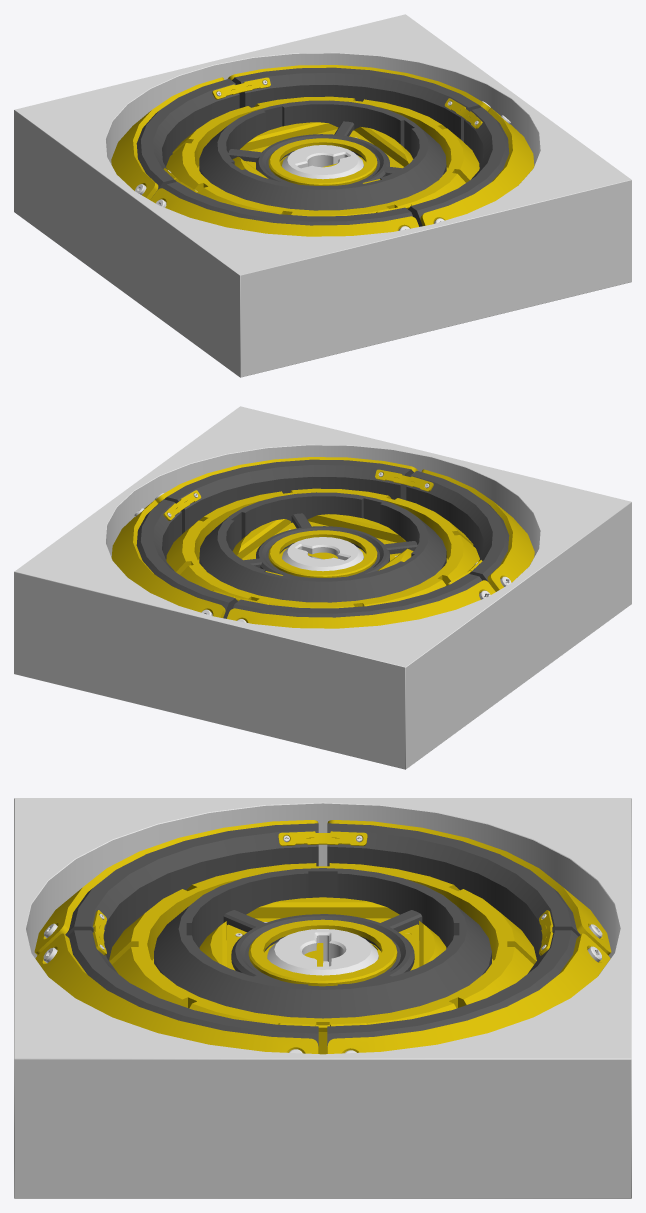
File: Scifi2_Ceiling2x.fbx
3 renders of one model, top to bottom at view 1: azimuth 30°, elevation 25°; view 2: azimuth 150°, elevation 25°; view 3: azimuth 270°, elevation 25°, orthographic. The views are drawn at different scales.
Parts seen in each view (by area): view 1: Ceiling2x, С_01_С_01.001_01; view 2: Ceiling2x, С_01_С_01.001_01; view 3: Ceiling2x, С_01_С_01.001_01.
Boxes of the visible parts, bbox=[...] form: Ceiling2x: bbox=[14, 14, 631, 377]; С_01_С_01.001_01: bbox=[111, 65, 534, 236]; Ceiling2x: bbox=[14, 406, 631, 769]; С_01_С_01.001_01: bbox=[111, 457, 534, 628]; Ceiling2x: bbox=[14, 798, 631, 1198]; С_01_С_01.001_01: bbox=[34, 820, 611, 1054].
Bounding box in the file's own units: 1600 × 402 × 1600.
